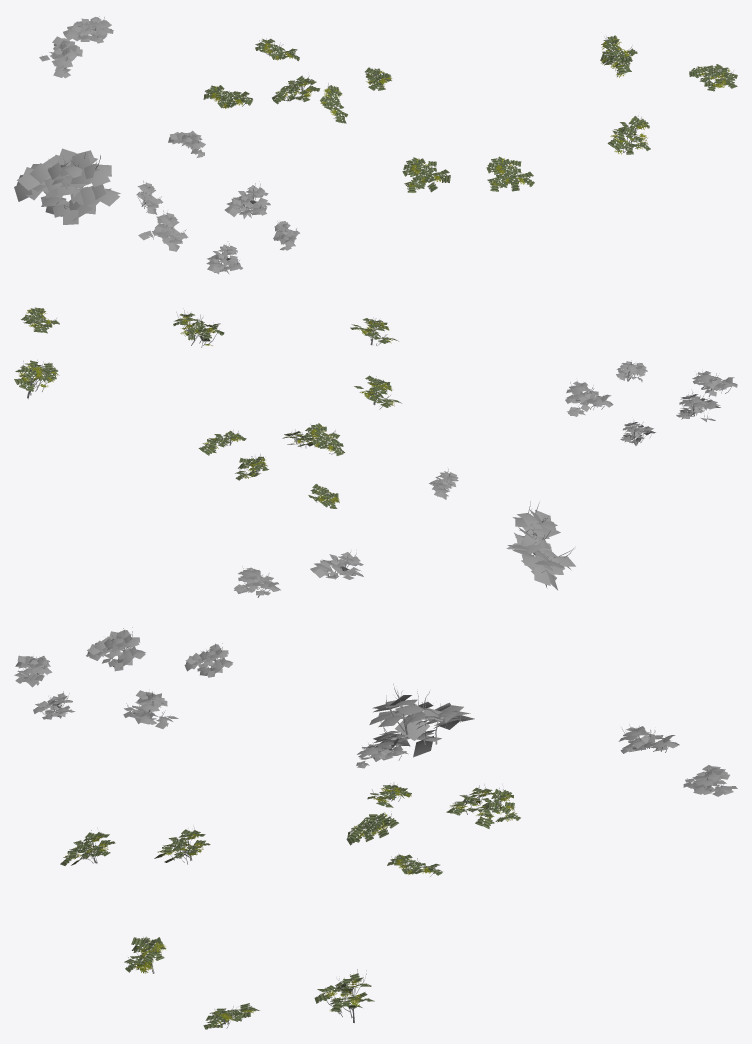
The model's file is S_Tree_Green018_A.FBX.
3 views of the same model, one above another, from view 1: azimuth 30°, elevation 25°; view 2: azimuth 150°, elevation 25°; view 3: azimuth 270°, elevation 25° (orthographic). The views are drawn at different scales.
Visible parts, largest first — view 1: S_Tree_Green018_006, S_Tree_Green018_016, S_Tree_Green018_015, S_Tree_Green018_017, S_Tree_Green018_004, S_Tree_Green018_009, S_Tree_Green018_008, S_Tree_Green018_018, S_Tree_Green018_003, S_Tree_Green018_019, S_Tree_Green018_011, S_Tree_Green018_010 (+7 smaller); view 2: S_Tree_Green018_006, S_Tree_Green018_018, S_Tree_Green018_008, S_Tree_Green018_004, S_Tree_Green018_017, S_Tree_Green018_009, S_Tree_Green018_011, S_Tree_Green018_003, S_Tree_Green018_015, S_Tree_Green018_001, S_Tree_Green018_016, S_Tree_Green018_019 (+4 smaller); view 3: S_Tree_Green018_006, S_Tree_Green018_003, S_Tree_Green018_018, S_Tree_Green018_004, S_Tree_Green018_009, S_Tree_Green018_017, S_Tree_Green018_013, S_Tree_Green018_008, S_Tree_Green018_005, S_Tree_Green018_012, S_Tree_Green018_016, S_Tree_Green018_015 (+2 smaller).
Boxes of the visible parts, x1,y1,x2,y2 form: S_Tree_Green018_006: (14,148,120,224); S_Tree_Green018_016: (486,156,534,191); S_Tree_Green018_015: (402,157,450,192); S_Tree_Green018_017: (607,115,650,154); S_Tree_Green018_004: (224,181,270,218); S_Tree_Green018_009: (63,16,113,43); S_Tree_Green018_008: (39,36,82,78); S_Tree_Green018_018: (600,35,637,77); S_Tree_Green018_003: (138,210,188,251); S_Tree_Green018_019: (689,64,737,91); S_Tree_Green018_011: (272,75,320,104); S_Tree_Green018_010: (203,85,252,108); S_Tree_Green018_006: (506,501,575,590); S_Tree_Green018_018: (14,360,59,398); S_Tree_Green018_008: (310,550,363,579); S_Tree_Green018_004: (565,380,613,416); S_Tree_Green018_017: (173,308,224,347); S_Tree_Green018_009: (234,566,280,597); S_Tree_Green018_011: (305,423,344,455); S_Tree_Green018_003: (676,389,720,421); S_Tree_Green018_015: (354,375,401,409); S_Tree_Green018_001: (692,371,737,396); S_Tree_Green018_016: (350,317,398,345); S_Tree_Green018_019: (21,307,59,333); S_Tree_Green018_006: (369,684,474,757); S_Tree_Green018_003: (86,627,145,671); S_Tree_Green018_018: (314,969,374,1022); S_Tree_Green018_004: (123,690,178,728); S_Tree_Green018_009: (683,765,737,796); S_Tree_Green018_017: (124,936,166,973); S_Tree_Green018_013: (475,788,520,828); S_Tree_Green018_008: (618,724,679,753); S_Tree_Green018_005: (184,643,233,677); S_Tree_Green018_012: (346,811,398,845); S_Tree_Green018_016: (60,828,115,865); S_Tree_Green018_015: (154,826,210,864).
Size of the model in its own units: 13576 by 11497 by 2111.
